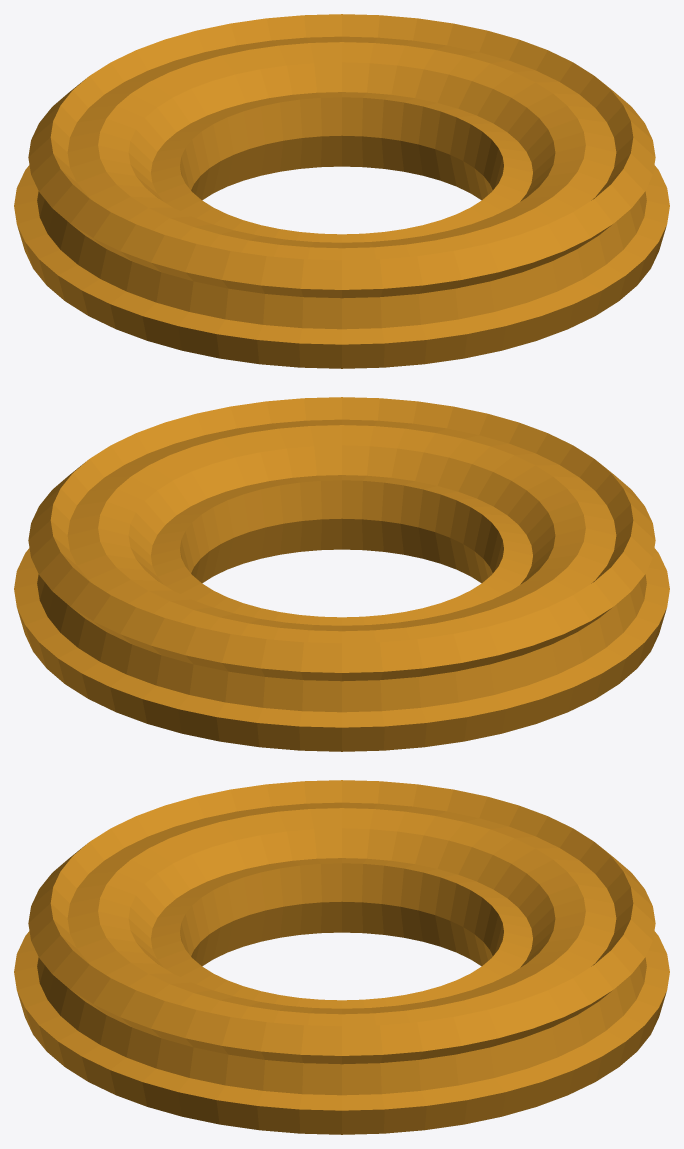
Rendered from pointsfigure.fbx.
3 views of the same model, one above another, from view 1: azimuth 30°, elevation 25°; view 2: azimuth 150°, elevation 25°; view 3: azimuth 270°, elevation 25° (orthographic).
Parts seen in each view (by area): view 1: Torus; view 2: Torus; view 3: Torus.
Boxes of the visible parts, bbox=[...] form: Torus: bbox=[14, 14, 669, 368]; Torus: bbox=[14, 397, 669, 751]; Torus: bbox=[14, 780, 669, 1134].
Bounding box in the file's own units: 269 × 53.59 × 269.
